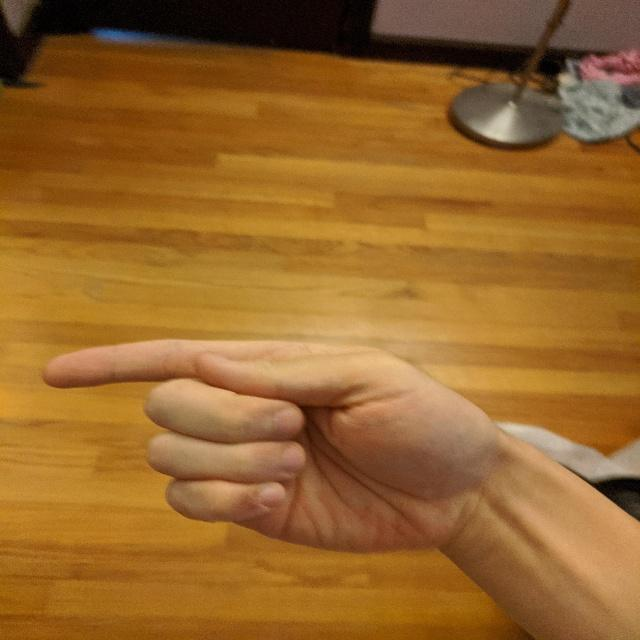G: (34, 333, 493, 555)
